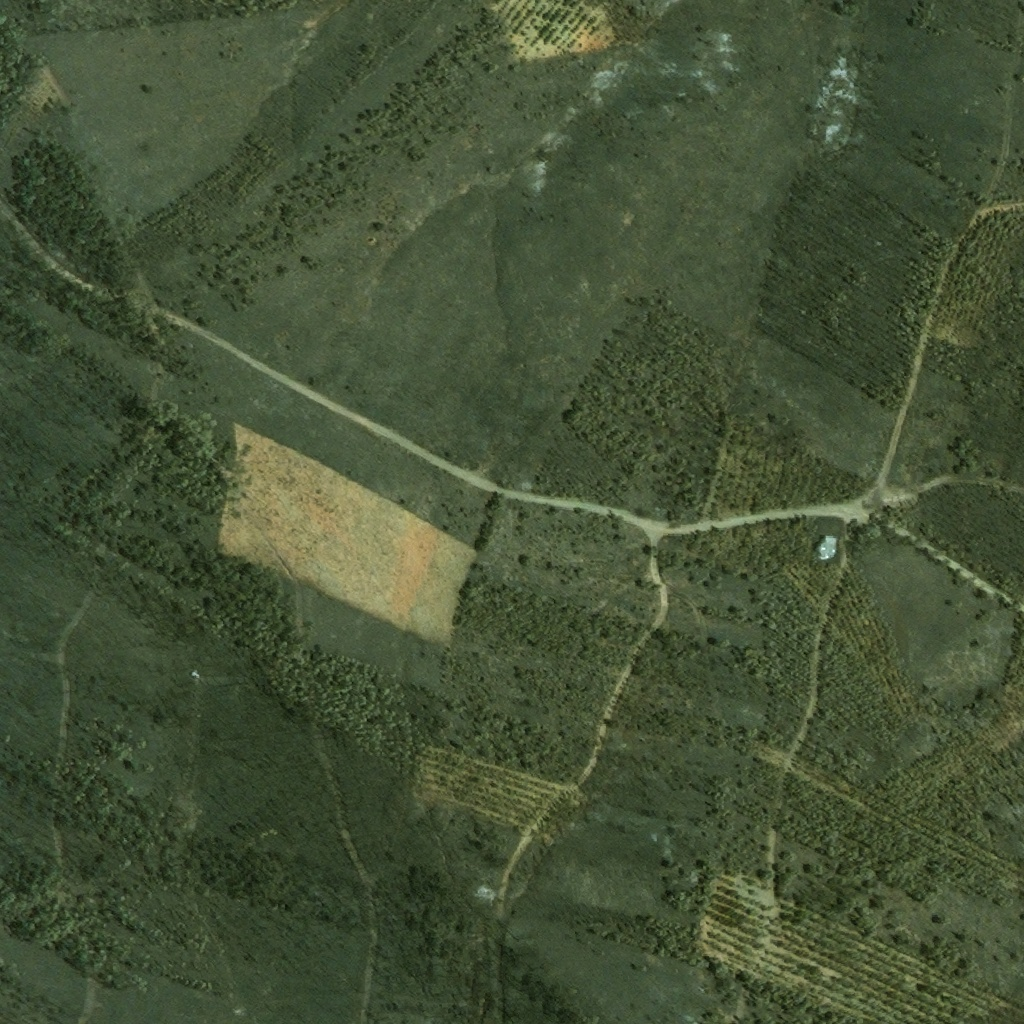0 no-damage: (813, 535, 837, 558)
